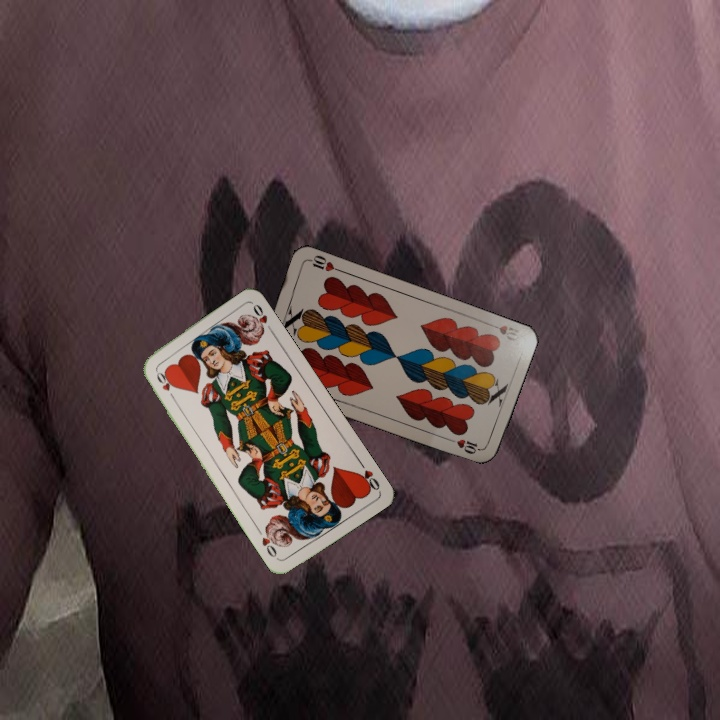H10: (484, 319, 524, 344)
HO: (354, 457, 382, 494), (152, 366, 178, 403)
